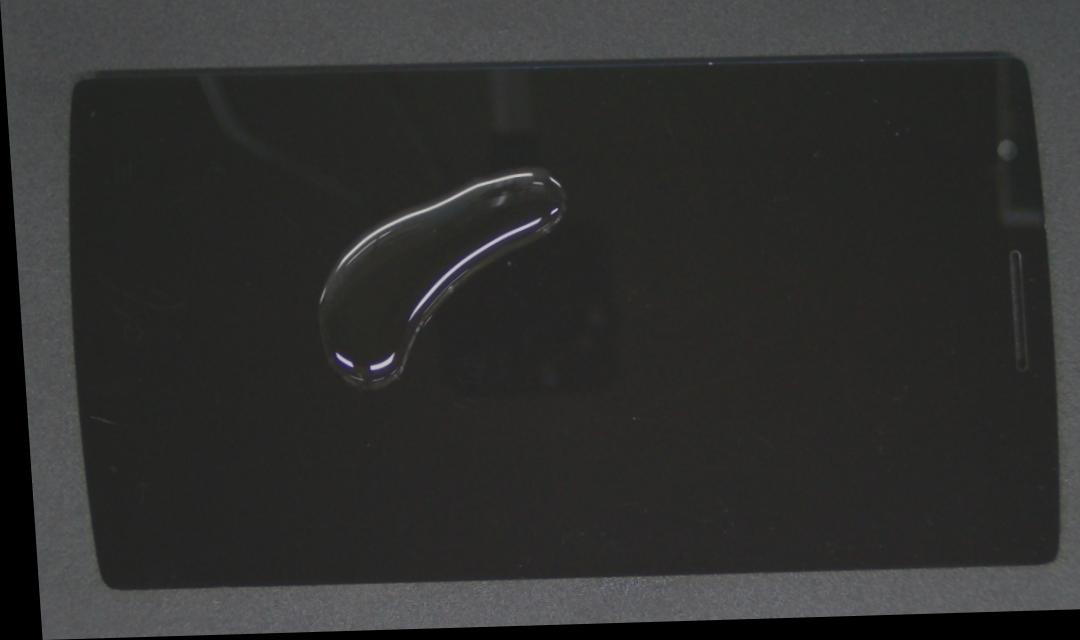oil: (288, 124, 604, 422)
